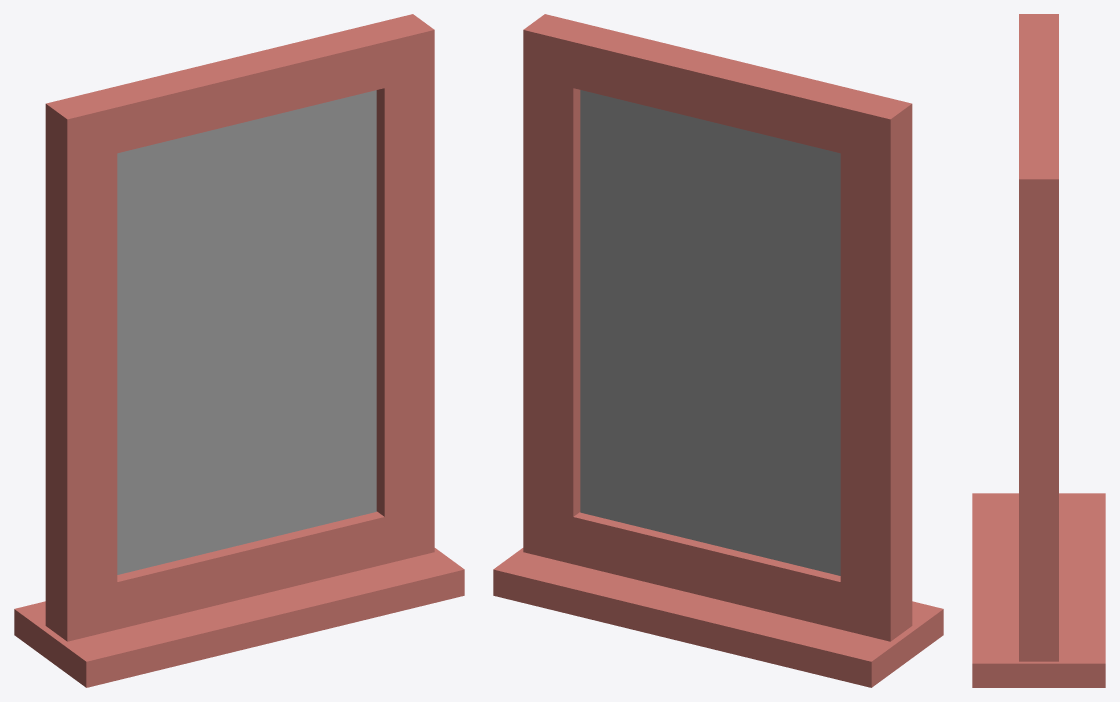
File: Window_4F.fbx
The picture shows the model from 3 angles, left to right: view 1: azimuth 30°, elevation 25°; view 2: azimuth 150°, elevation 25°; view 3: azimuth 270°, elevation 25°; orthographic projection. The views are drawn at different scales.
Visible parts, largest first — view 1: polySurface1636, Window_Glass_6; view 2: polySurface1636, Window_Glass_6; view 3: polySurface1636.
Part boxes in pixels (bbox=[...]): polySurface1636: bbox=[14, 14, 464, 687]; Window_Glass_6: bbox=[117, 90, 376, 574]; polySurface1636: bbox=[493, 14, 943, 687]; Window_Glass_6: bbox=[580, 90, 840, 575]; polySurface1636: bbox=[972, 14, 1105, 687].
Bounding box in the file's own units: 1.51 × 2.09 × 0.5.
2 materials, 1 textured.
